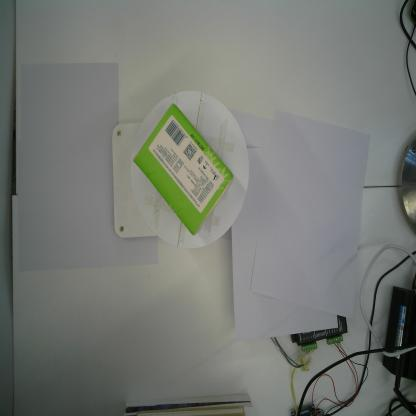Tissue: (132, 100, 236, 239)
